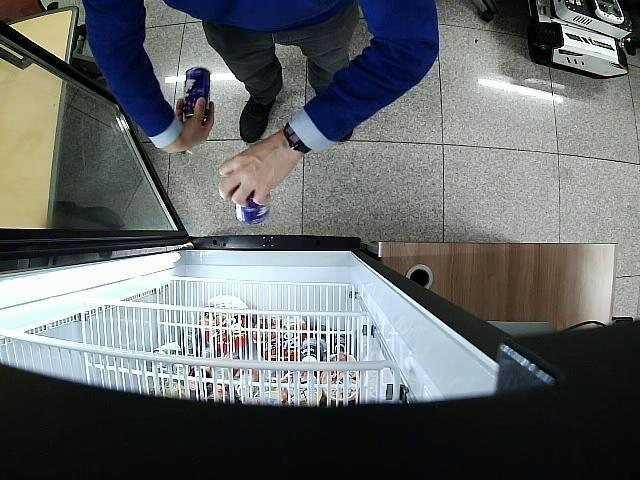14_welchsGrape: (184, 69, 212, 124), (236, 190, 270, 224)
